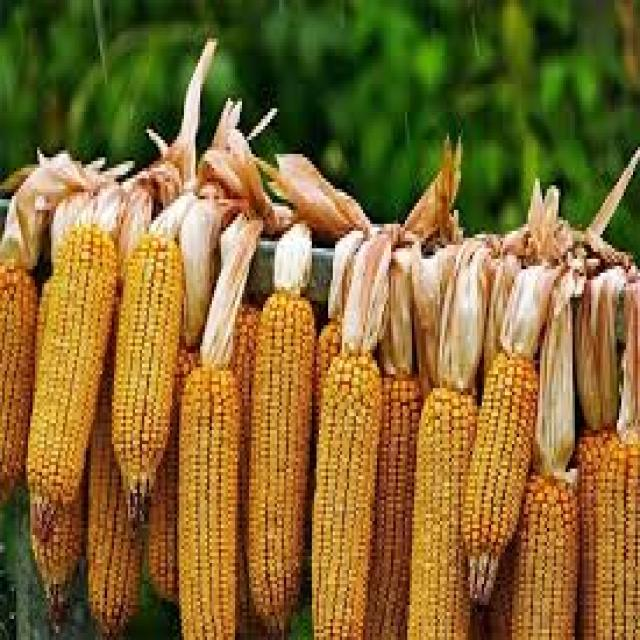corn: (22, 218, 123, 549), (243, 284, 325, 618), (453, 332, 544, 601), (166, 350, 245, 639), (313, 336, 387, 639), (105, 220, 170, 540), (411, 369, 482, 640), (498, 450, 588, 640), (368, 351, 424, 640), (76, 390, 140, 638), (575, 423, 640, 640), (0, 247, 38, 517), (18, 476, 87, 622), (143, 469, 188, 609)
